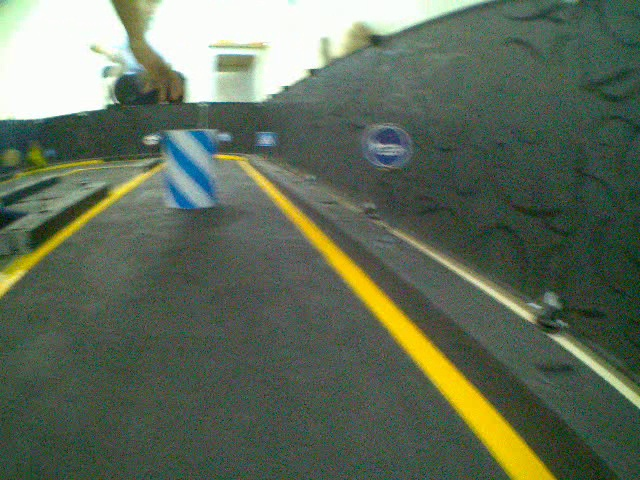bucket: (162, 125, 218, 213)
